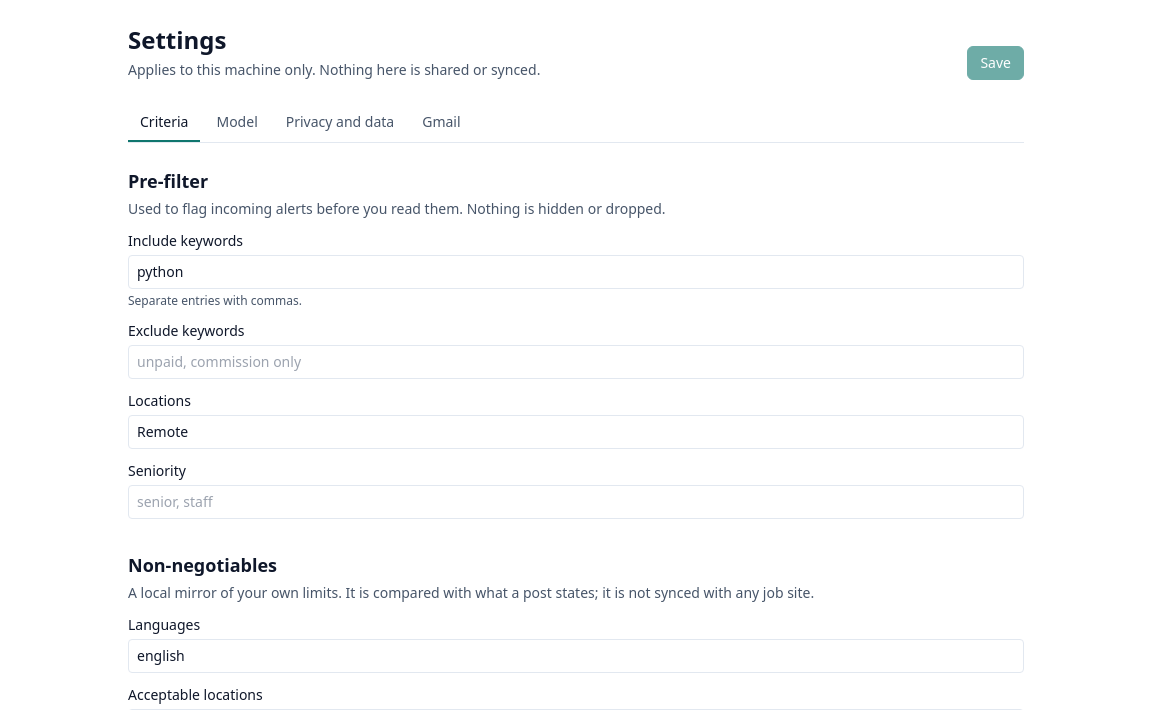
Test case: Settings › backs up and reports the file it wrote
Click the tab "Privacy and data" at (340, 123), box [274,104,406,142]
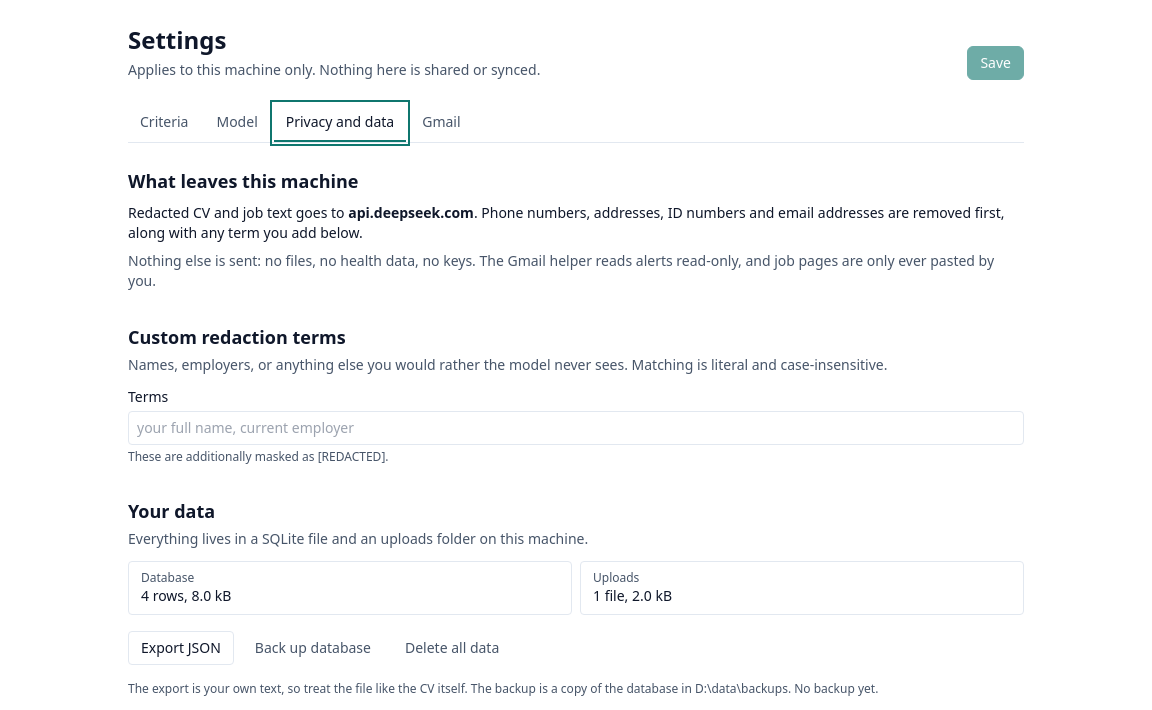
Click the button "Back up database" at (313, 648), box [242,631,384,665]
(page scrolled)
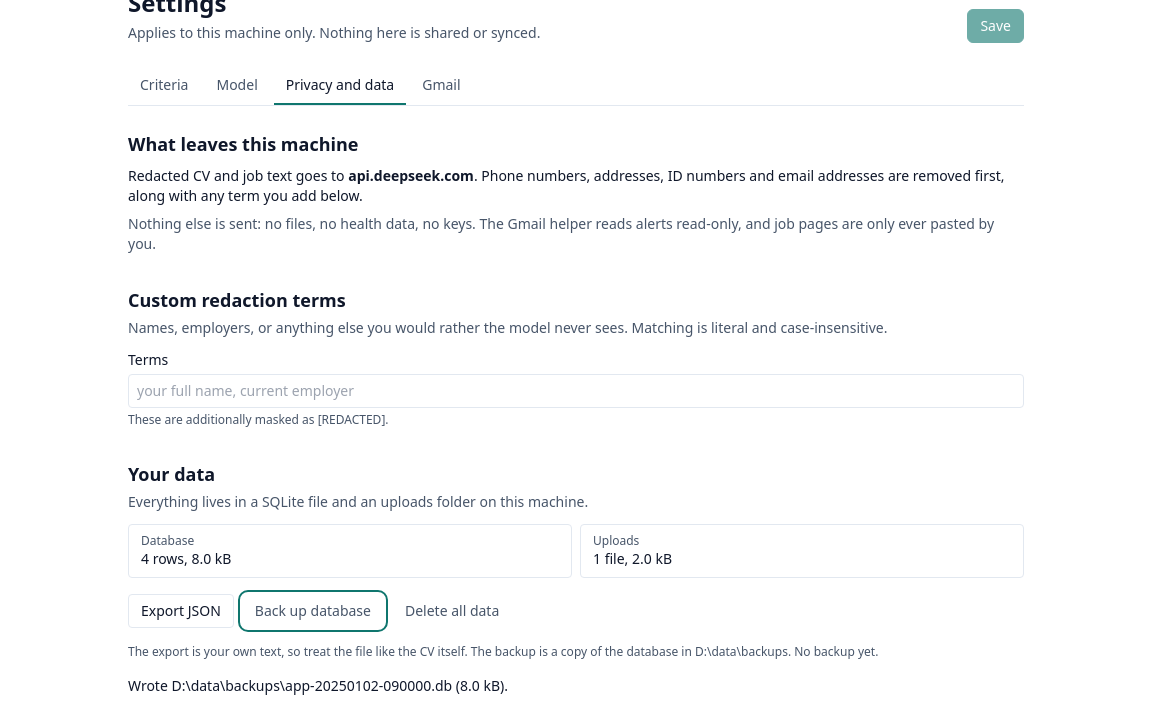
Result: the message shows "Wrote D:\\data\\backups\\app-20250102-090000.db" at [128,676,508,695]
